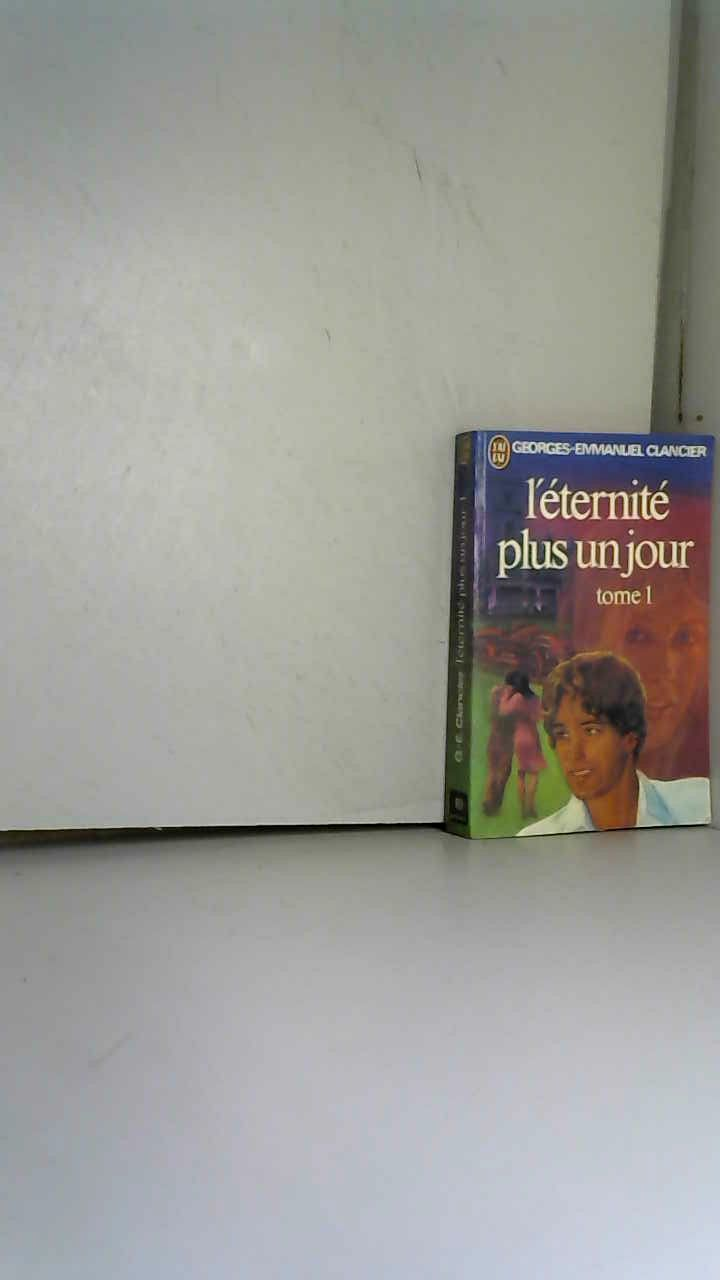book: (419, 380, 720, 875)
